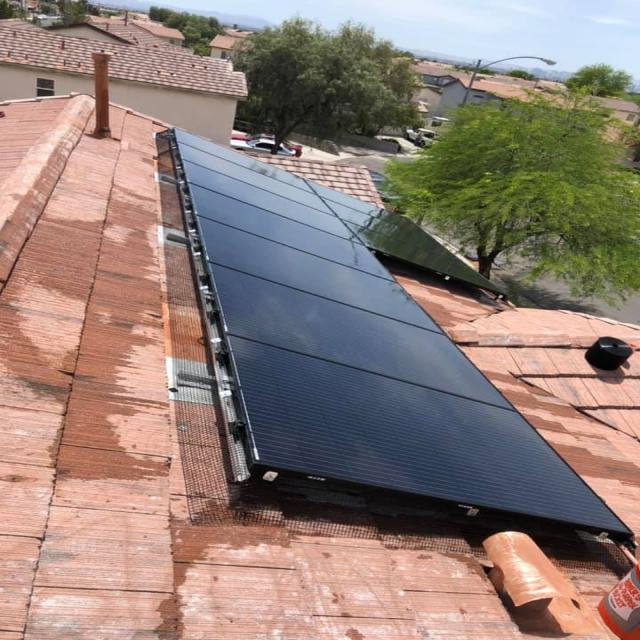clean-solar-panel: (165, 131, 630, 535)
